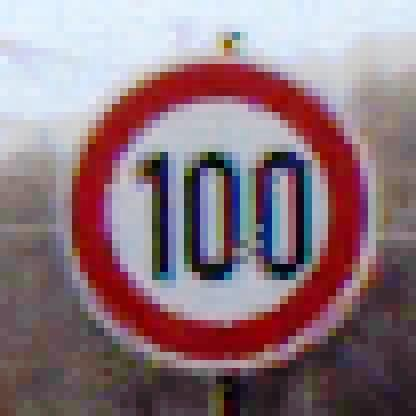Speed Limit -100-: (62, 52, 377, 367)
